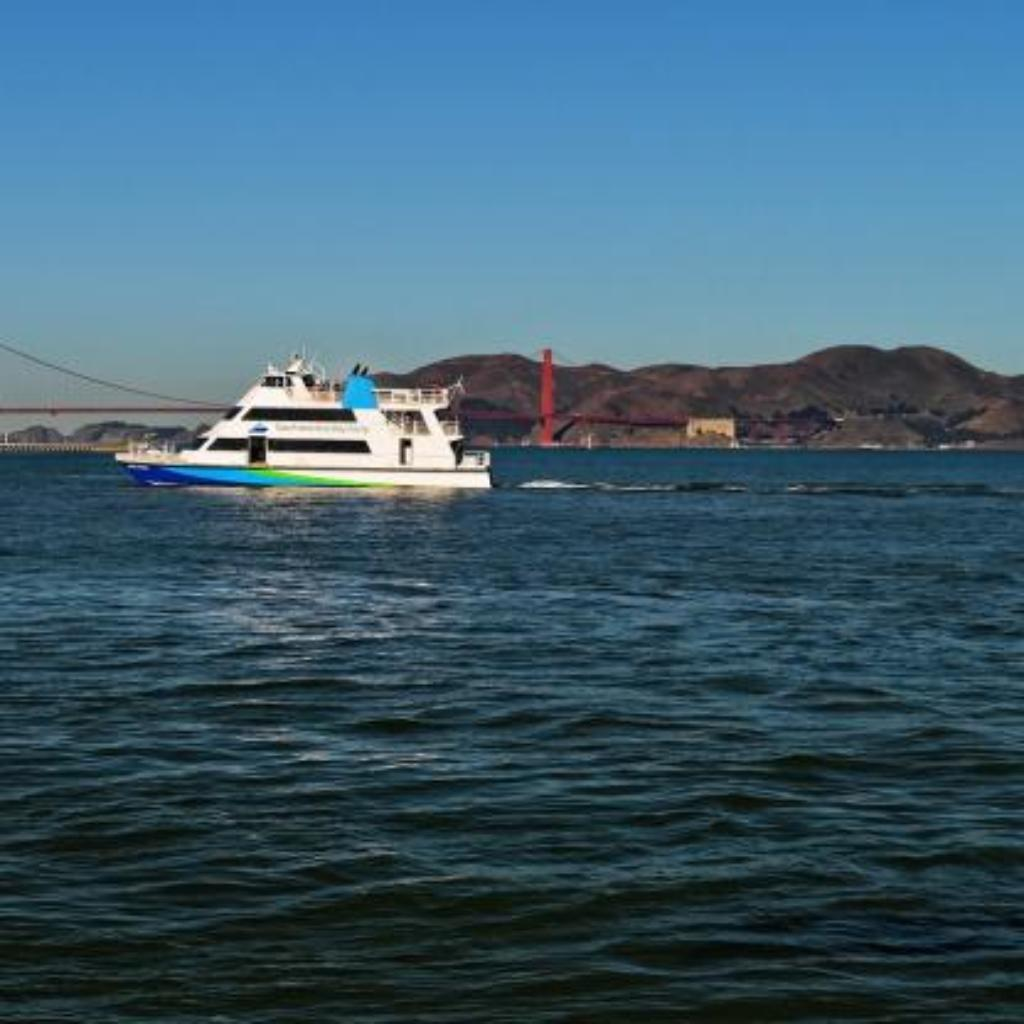PassengerShip: (111, 348, 499, 494)
